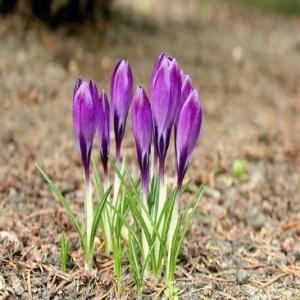Saffron: (171, 70, 205, 180), (150, 51, 180, 158), (74, 78, 100, 168), (112, 58, 132, 146), (133, 86, 153, 173), (97, 91, 112, 169)
